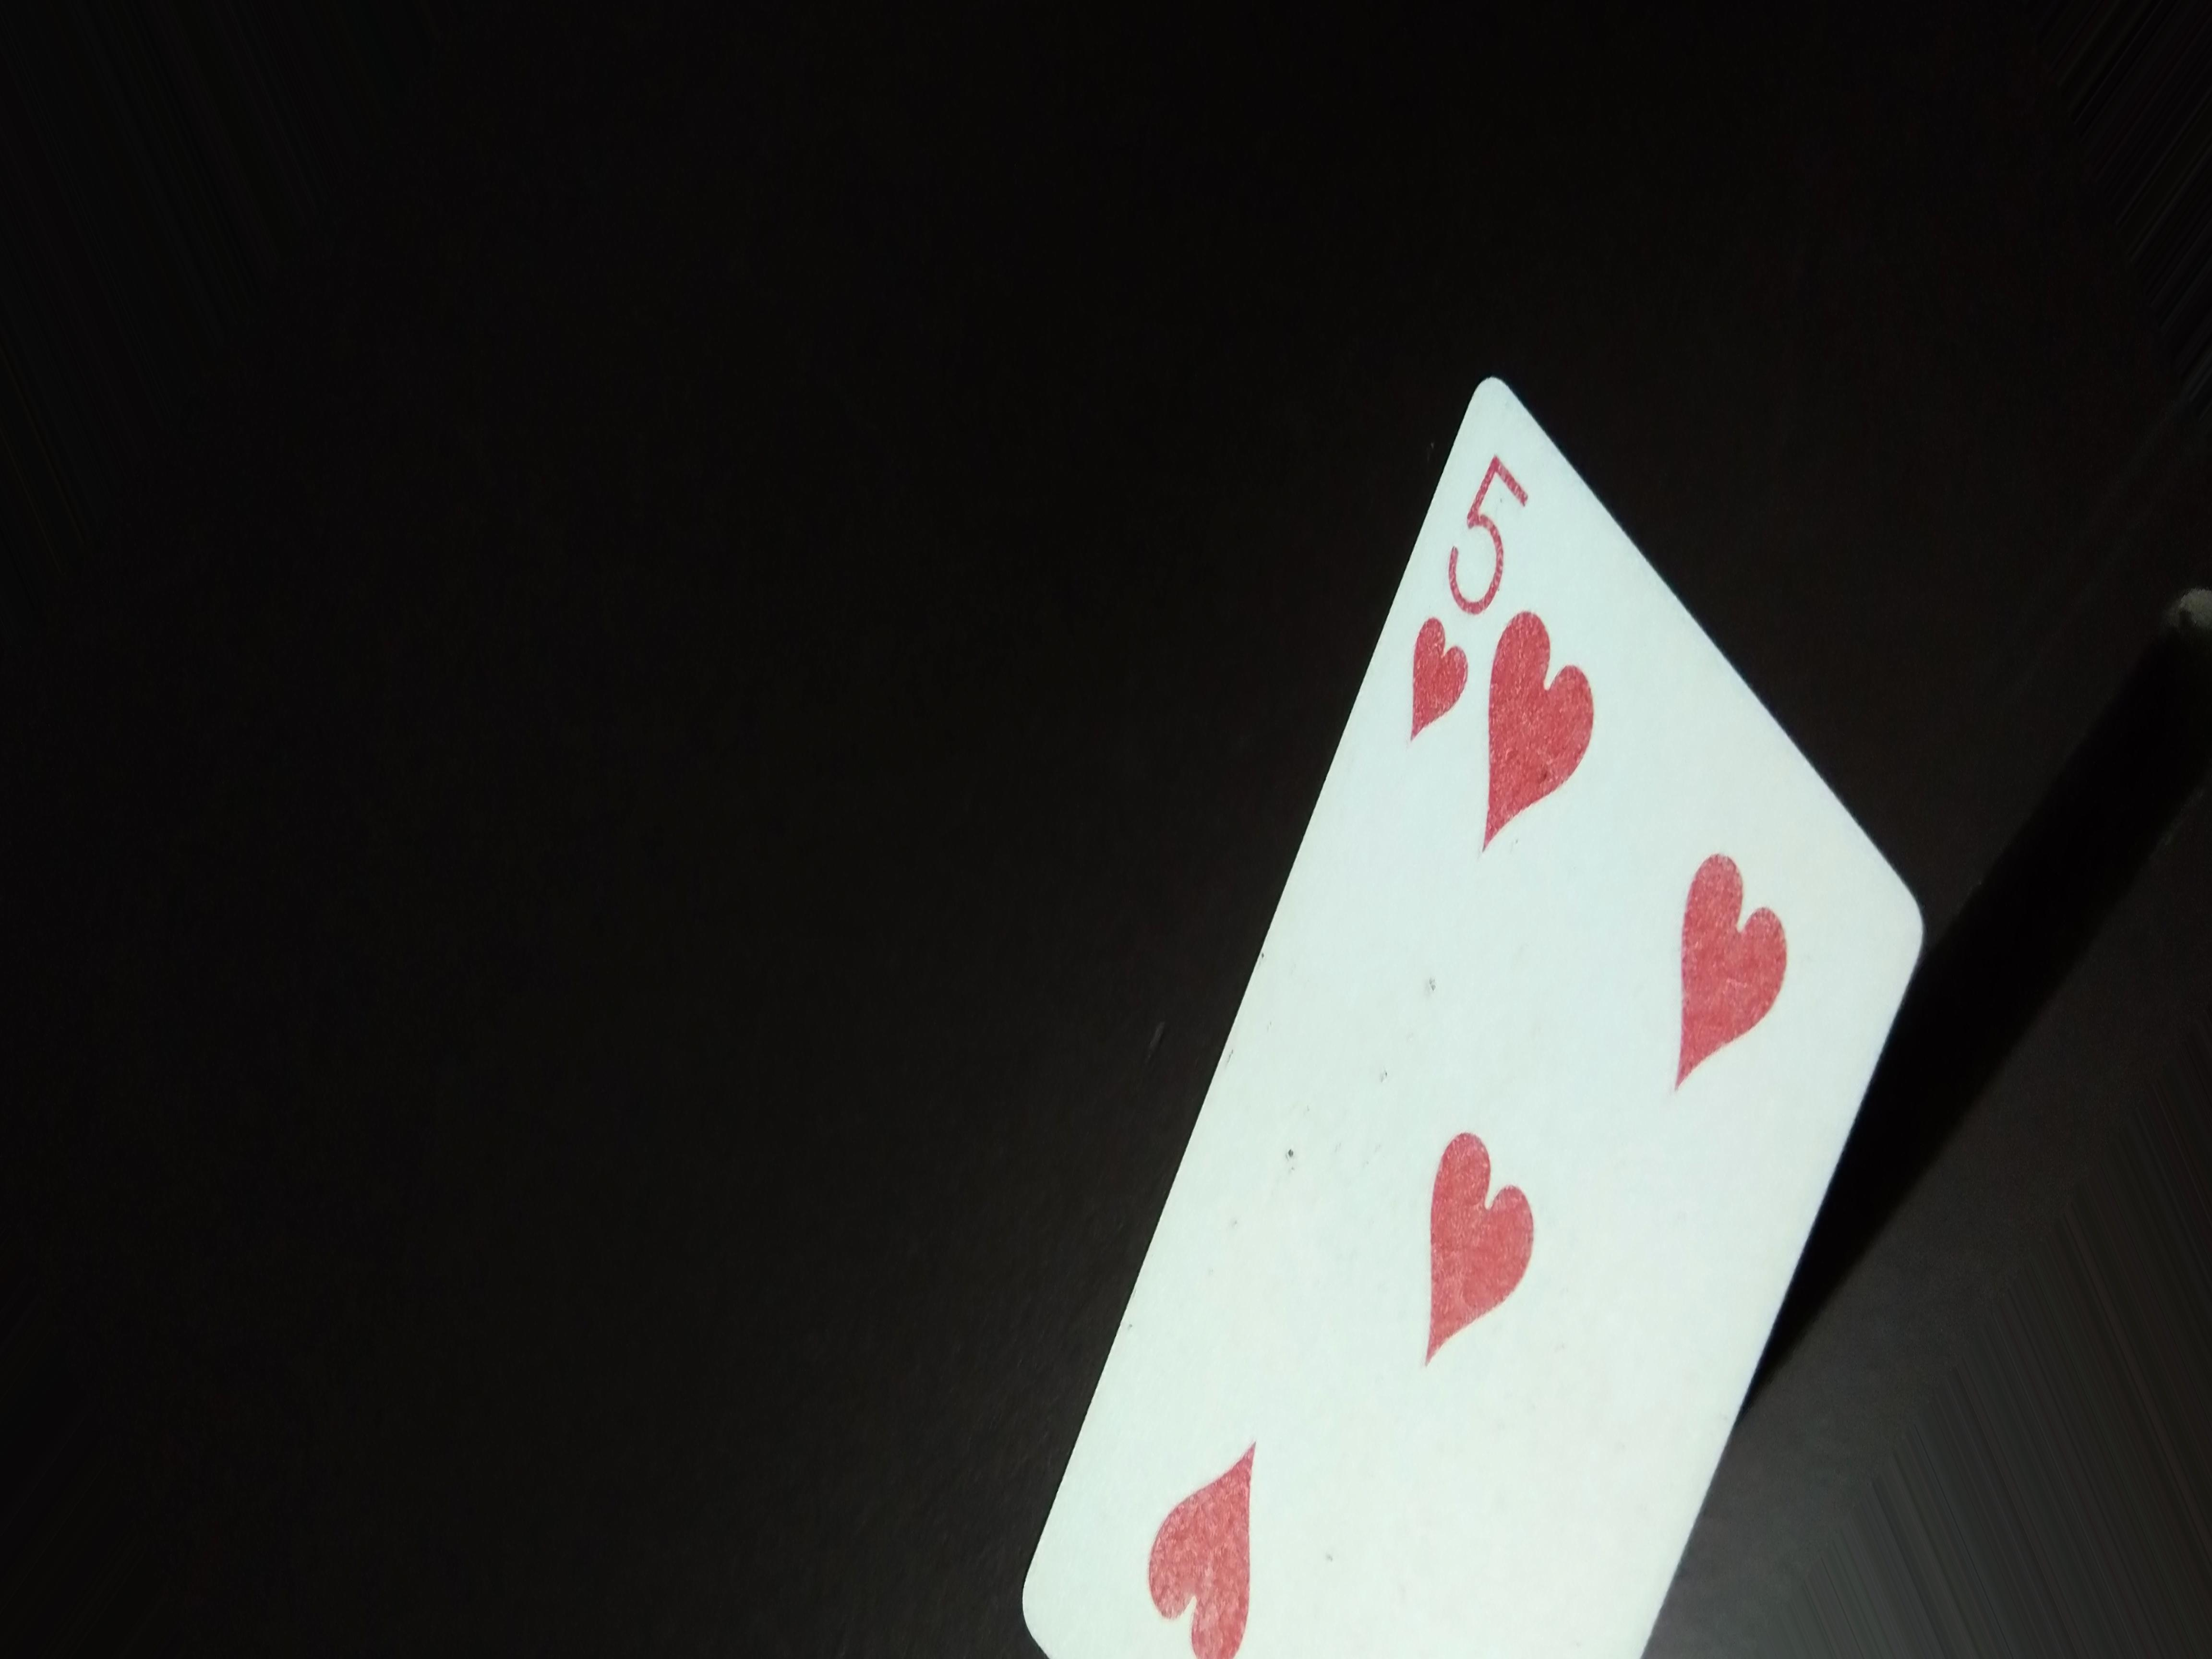5H: (1388, 427, 1533, 777)
